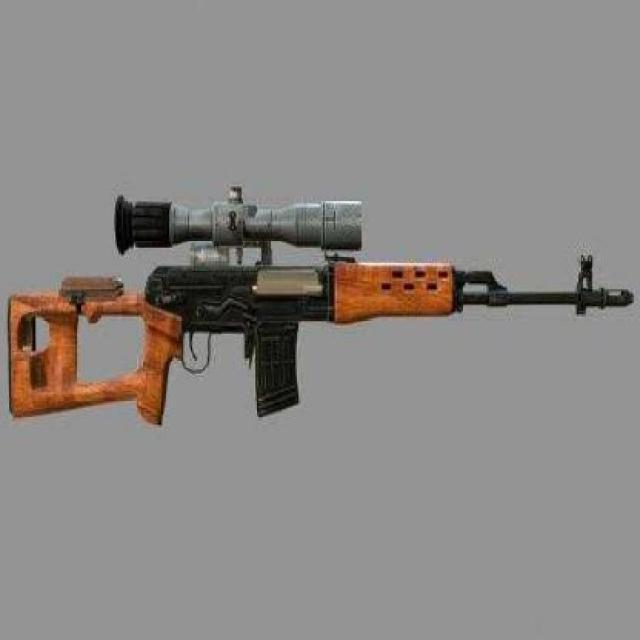weapon: (8, 184, 634, 428)
